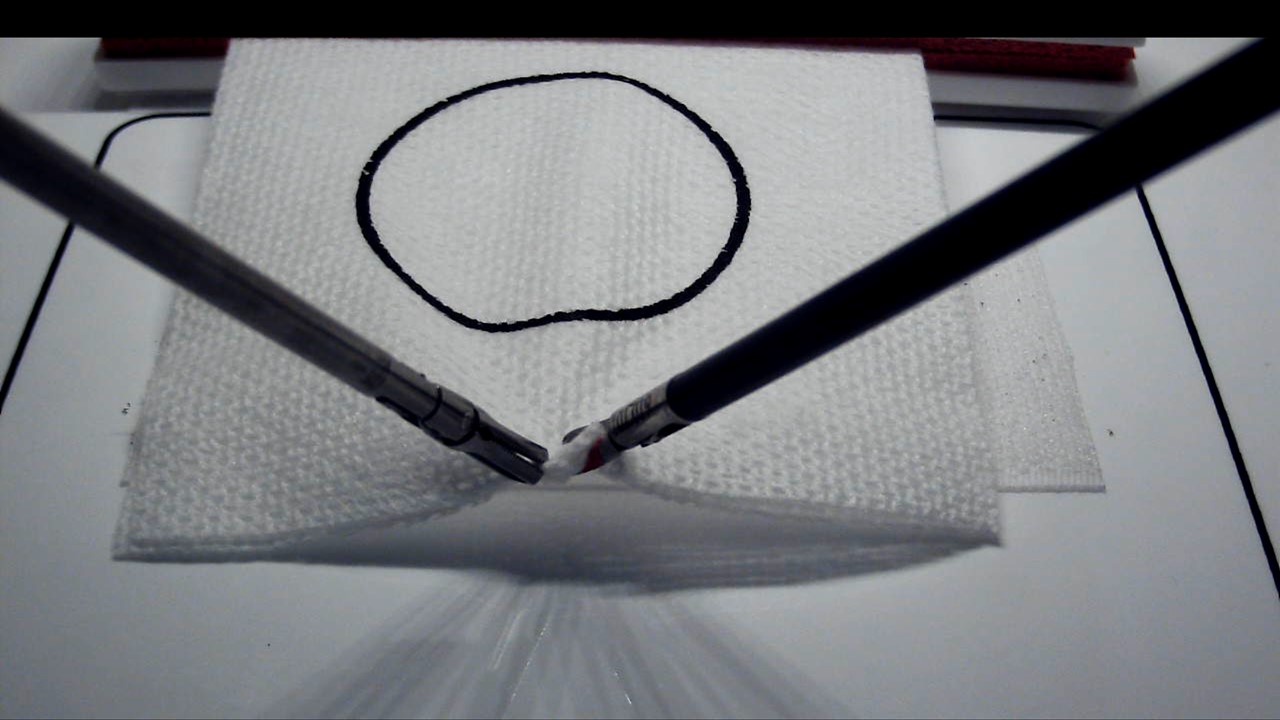Circle: (355, 69, 753, 334)
Grasper: (468, 411, 550, 486)
Scissor: (561, 422, 617, 475)
